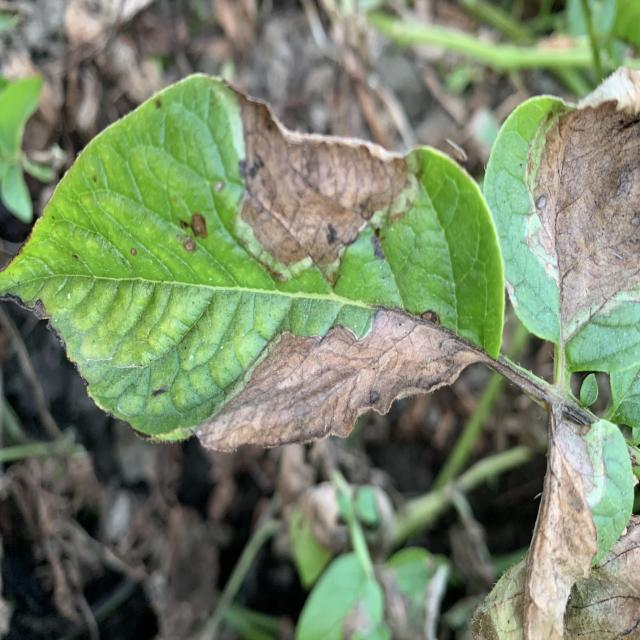lateblight: (196, 308, 479, 450), (235, 90, 409, 280), (535, 68, 640, 340), (524, 403, 598, 638)
